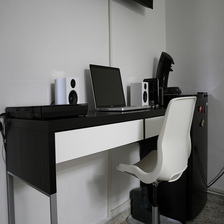laptop: (79, 60, 143, 123)
